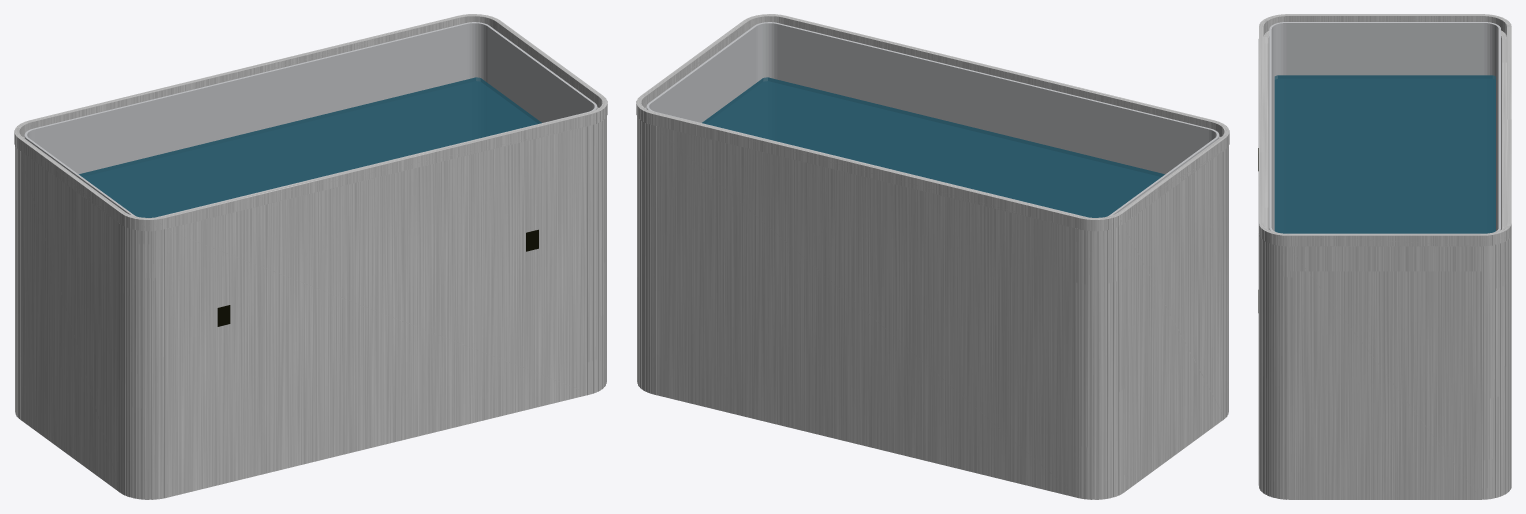
Rendered from yirri-steel-1.glb.
3 renders of one model, left to right at view 1: azimuth 30°, elevation 25°; view 2: azimuth 150°, elevation 25°; view 3: azimuth 270°, elevation 25°, orthographic. The views are drawn at different scales.
Parts seen in each view (by area): view 1: brushed, steel, water; view 2: brushed, steel, water; view 3: brushed, water, steel.
Part boxes in pixels (bbox=[...]): brushed: bbox=[14, 14, 607, 499]; steel: bbox=[24, 22, 597, 217]; water: bbox=[79, 77, 541, 217]; brushed: bbox=[636, 14, 1229, 499]; steel: bbox=[646, 22, 1219, 217]; water: bbox=[702, 77, 1164, 217]; brushed: bbox=[1258, 14, 1511, 499]; water: bbox=[1274, 75, 1495, 233]; steel: bbox=[1269, 22, 1500, 232].
Bounding box in the file's own units: 1.35 × 0.75 × 0.6526.
5 materials, 1 textured.
